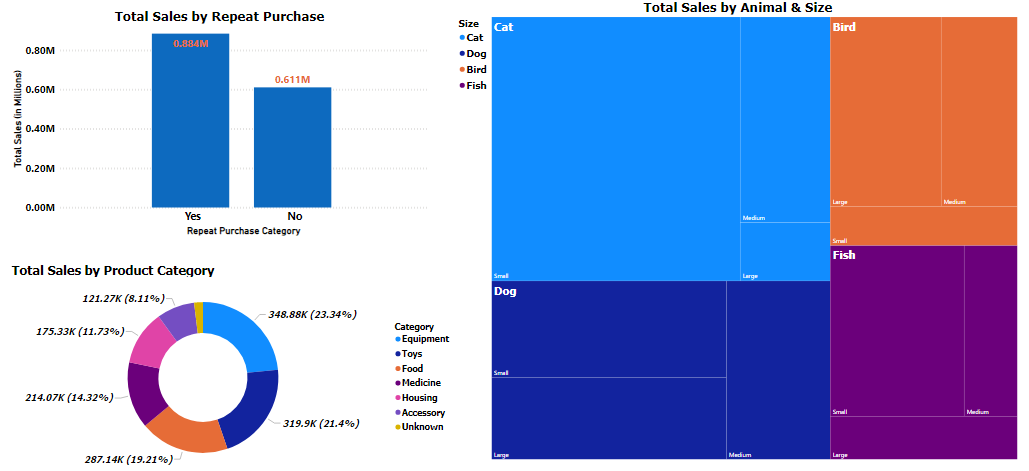

What the dashboard file says about the page in this screenshot:
{"tool":"powerbi","page":{"name":"Sales Distribution","canvas":[2080,960],"ordinal":2},"visuals":[{"type":"treemap","title":"Total Sales by Animal & Size","fields":{"Group":["DAA_pet_supplies_2212.Animal"],"Values":["Sum(DAA_pet_supplies_2212.sales)"],"Details":["DAA_pet_supplies_2212.size"]},"box":[922,0,1128,928],"z":0},{"type":"columnChart","title":"Total Sales by Repeat Purchase","fields":{"Category":["DAA_pet_supplies_2212.repeat_purchase"],"Y":["Sum(DAA_pet_supplies_2212.sales)"]},"box":[28,18,842,462],"z":1000},{"type":"donutChart","title":"Total Sales by Product Category","fields":{"Category":["DAA_pet_supplies_2212.category"],"Y":["Sum(DAA_pet_supplies_2212.sales)"]},"box":[28,528,894,432],"z":2000}]}

Visuals, with their boxes in screenshot pixels (x1, y1, x2, y2), scaled from the page's 2080x960 canvas onto the 1029x471 screenshot:
"Total Sales by Animal & Size" treemap: BBox(456, 0, 1014, 455)
"Total Sales by Repeat Purchase" columnChart: BBox(14, 9, 430, 236)
"Total Sales by Product Category" donutChart: BBox(14, 259, 456, 470)
